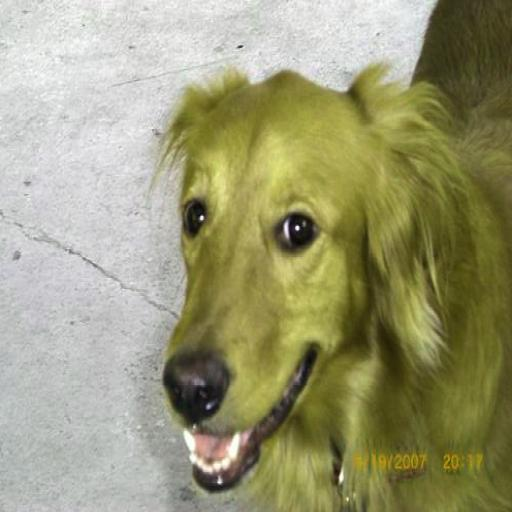dog_face: (151, 68, 445, 485)
